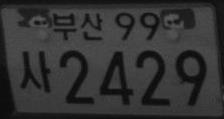2: (135, 48, 171, 106), (58, 49, 95, 104)
4: (98, 50, 135, 106)
9: (174, 49, 208, 106), (138, 10, 161, 40), (114, 11, 135, 40)
부산_H: (51, 12, 103, 42)
사: (17, 49, 52, 93)
